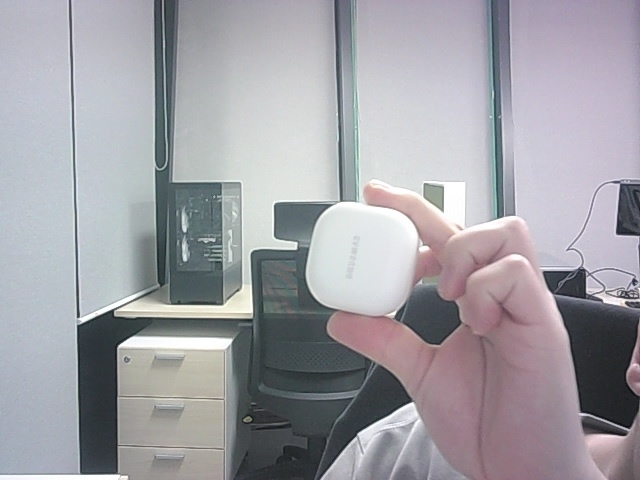case: (306, 202, 419, 314)
